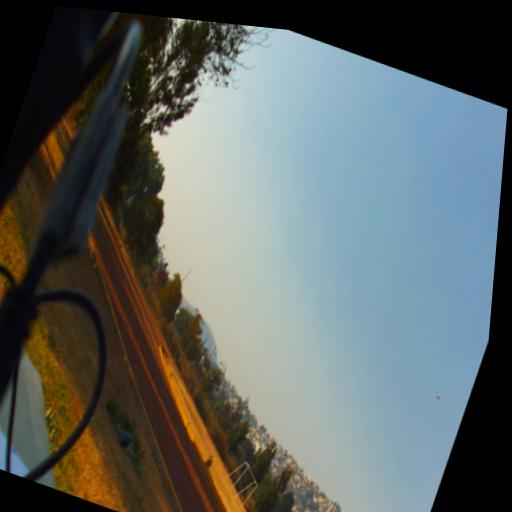drones: (431, 388, 445, 406)
